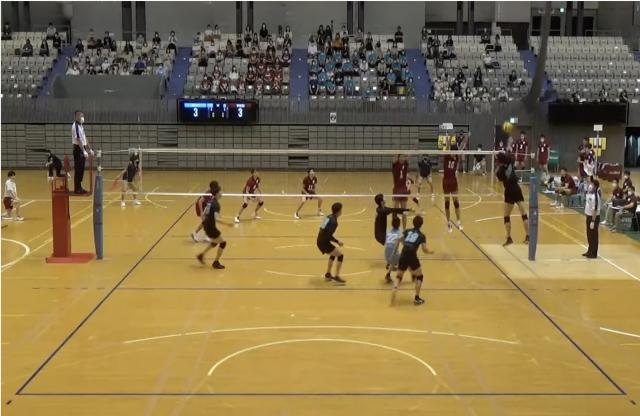spike: (492, 121, 534, 250)
